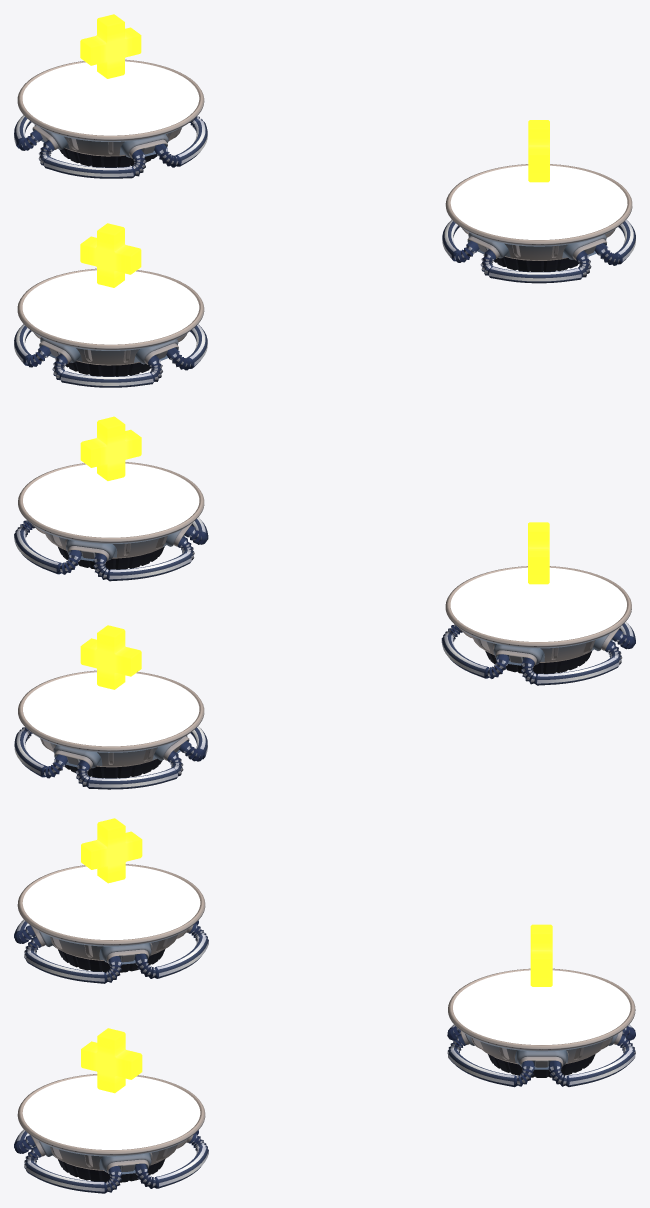
Rendered from BTLMN_LemonPlatforms.glb.
The picture shows the model from 3 angles, top to bottom: view 1: azimuth 30°, elevation 25°; view 2: azimuth 150°, elevation 25°; view 3: azimuth 270°, elevation 25°; orthographic projection.
Parts seen in each view (by area): view 1: Platform_3, Platform_2, Platform_1, Plus_1_Stroke, Plus_2_Stroke, Plus_3_Stroke; view 2: Platform_1, Platform_2, Platform_3, Plus_1_Stroke, Plus_3_Stroke, Plus_2_Stroke; view 3: Platform_1, Platform_3, Platform_2, Plus_2_Stroke, Plus_3_Stroke, Plus_1_Stroke.
Part boxes in pixels (box(x1,y1,x2,y2)): Platform_3: box(442, 164, 635, 283); Platform_2: box(14, 268, 207, 387); Platform_1: box(14, 59, 207, 178); Plus_1_Stroke: box(80, 14, 141, 78); Plus_2_Stroke: box(80, 223, 141, 287); Plus_3_Stroke: box(528, 120, 549, 182); Platform_1: box(14, 670, 207, 789); Platform_2: box(441, 566, 635, 685); Platform_3: box(14, 462, 208, 581); Plus_1_Stroke: box(80, 625, 141, 689); Plus_3_Stroke: box(80, 416, 141, 480); Plus_2_Stroke: box(528, 522, 549, 584); Platform_1: box(447, 968, 635, 1087); Platform_3: box(14, 1074, 208, 1193); Platform_2: box(14, 864, 208, 983); Plus_2_Stroke: box(81, 818, 142, 883); Plus_3_Stroke: box(81, 1028, 142, 1093); Plus_1_Stroke: box(530, 924, 552, 986).
Size of what is drawn, in the model's own units: 724 by 147 by 651.
Materials: 4 (4 with a texture image).
